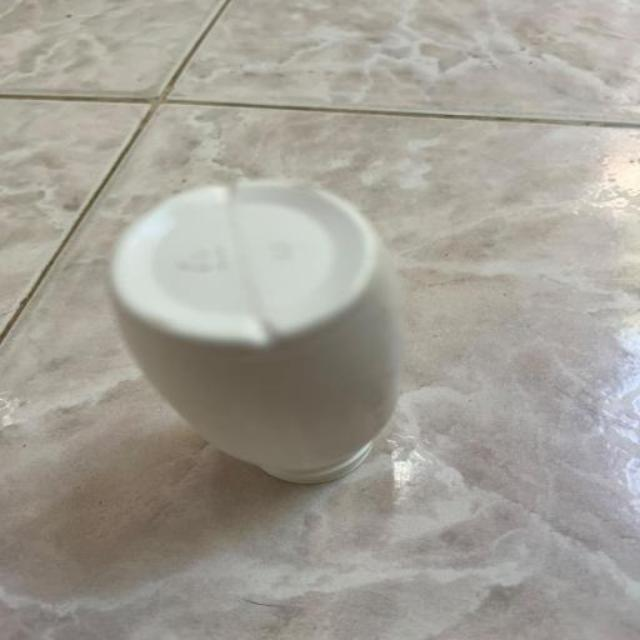HDPE: (54, 180, 492, 522)
